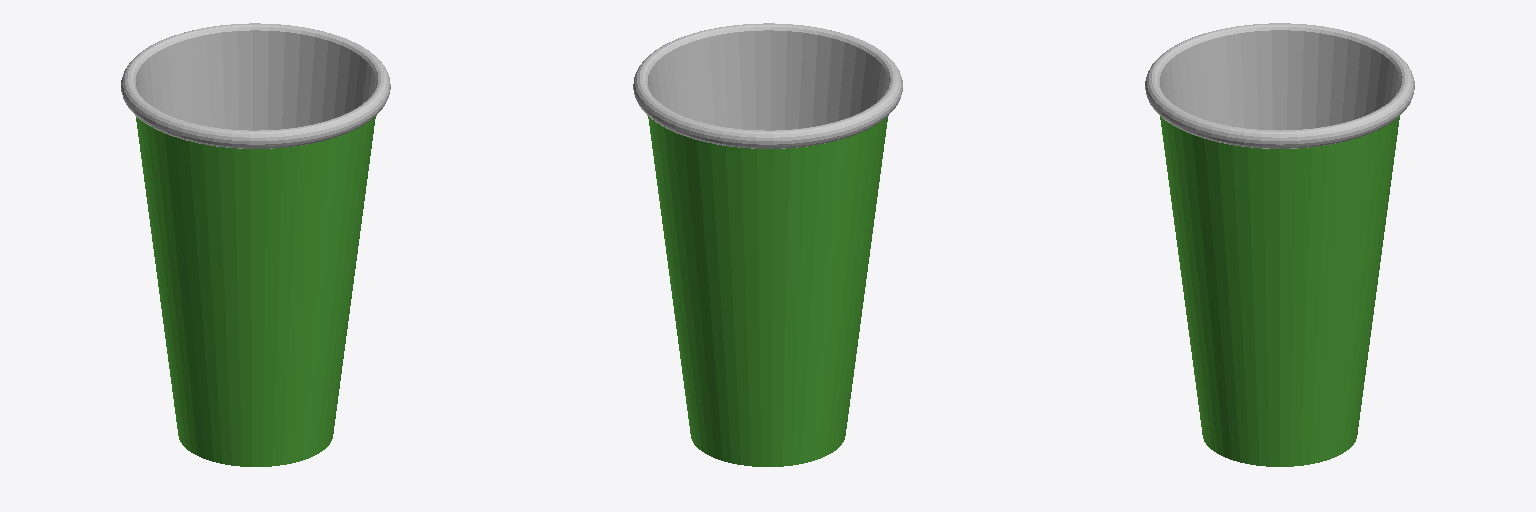
File: paper_cup.obj
3 renders of one model, left to right at view 1: azimuth 30°, elevation 25°; view 2: azimuth 150°, elevation 25°; view 3: azimuth 270°, elevation 25°, orthographic.
Size of the model in its own units: 32.87 by 48.03 by 32.88.